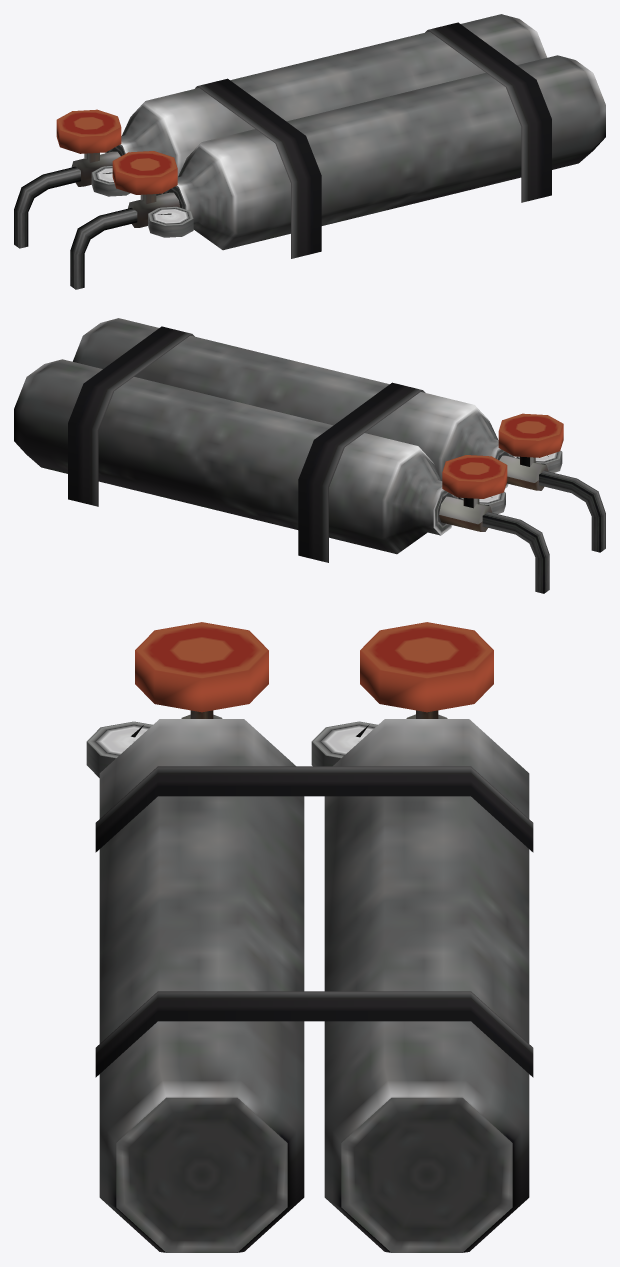
File: nto_b_tw.glb
3 views of the same model, one above another, from view 1: azimuth 30°, elevation 25°; view 2: azimuth 150°, elevation 25°; view 3: azimuth 270°, elevation 25° (orthographic). The views are drawn at different scales.
Visible parts, largest first — view 1: nto_b_tw; view 2: nto_b_tw; view 3: nto_b_tw.
Part boxes in pixels (left/top/right/bottom): nto_b_tw: left=14, top=14, right=605, bottom=289; nto_b_tw: left=14, top=318, right=605, bottom=593; nto_b_tw: left=86, top=622, right=533, bottom=1252.
Bounding box in the file's own units: 0.6662 × 0.1317 × 0.2519.
Materials: 2 (2 with a texture image).
